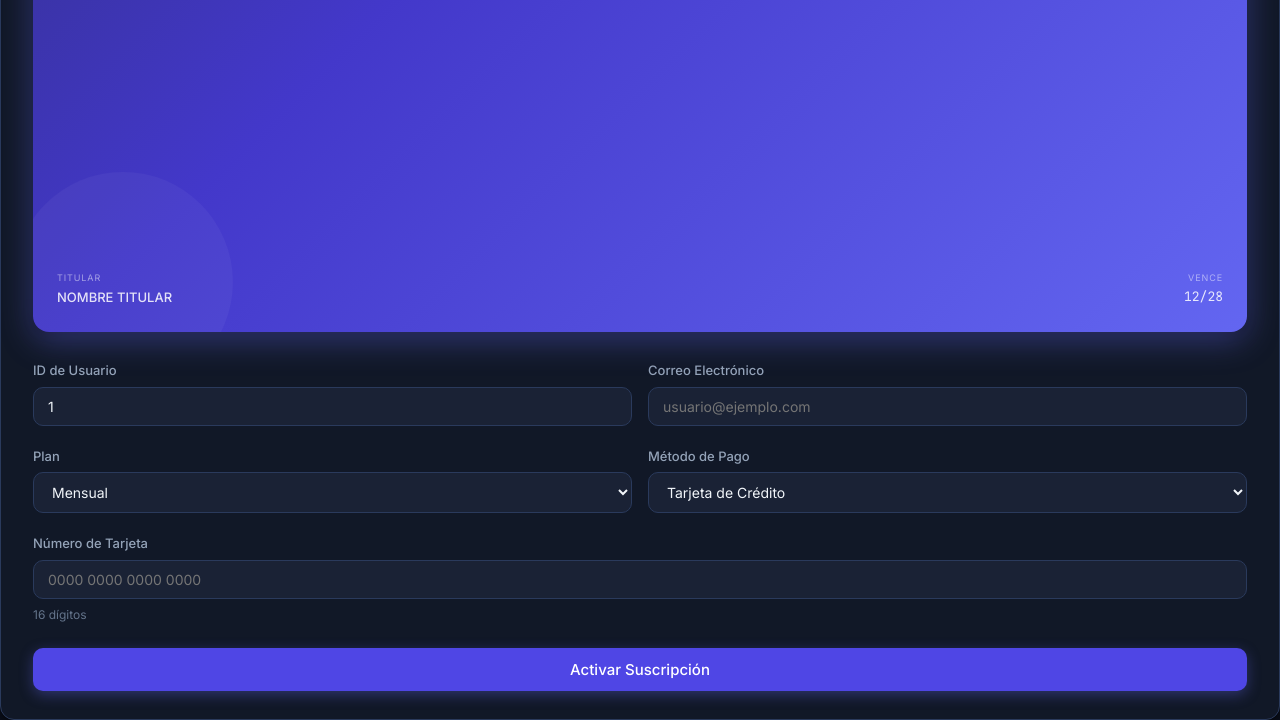
Scenario: SubscriptionForm › shows error for invalid email format
(page scrolled)
Type "notanemail" into the field labelled "Correo Electrónico" at (948, 406), box left=648, top=387, right=1247, bottom=426
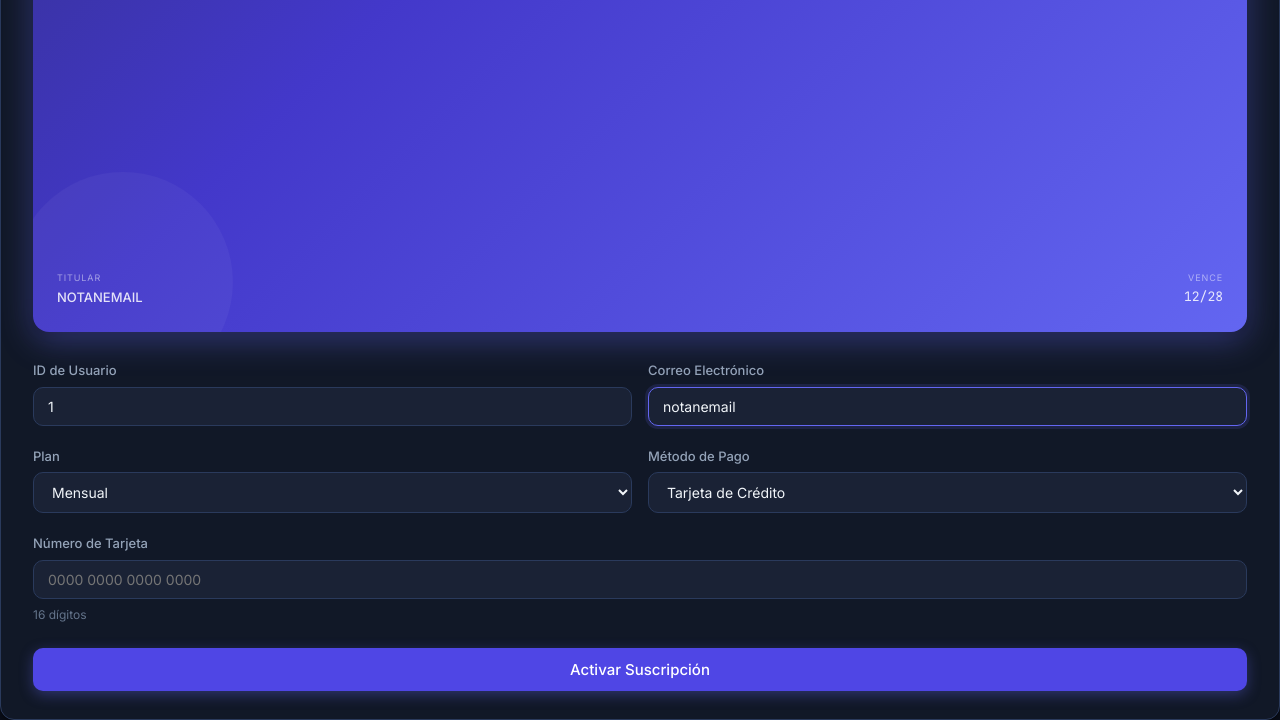
Press Tab
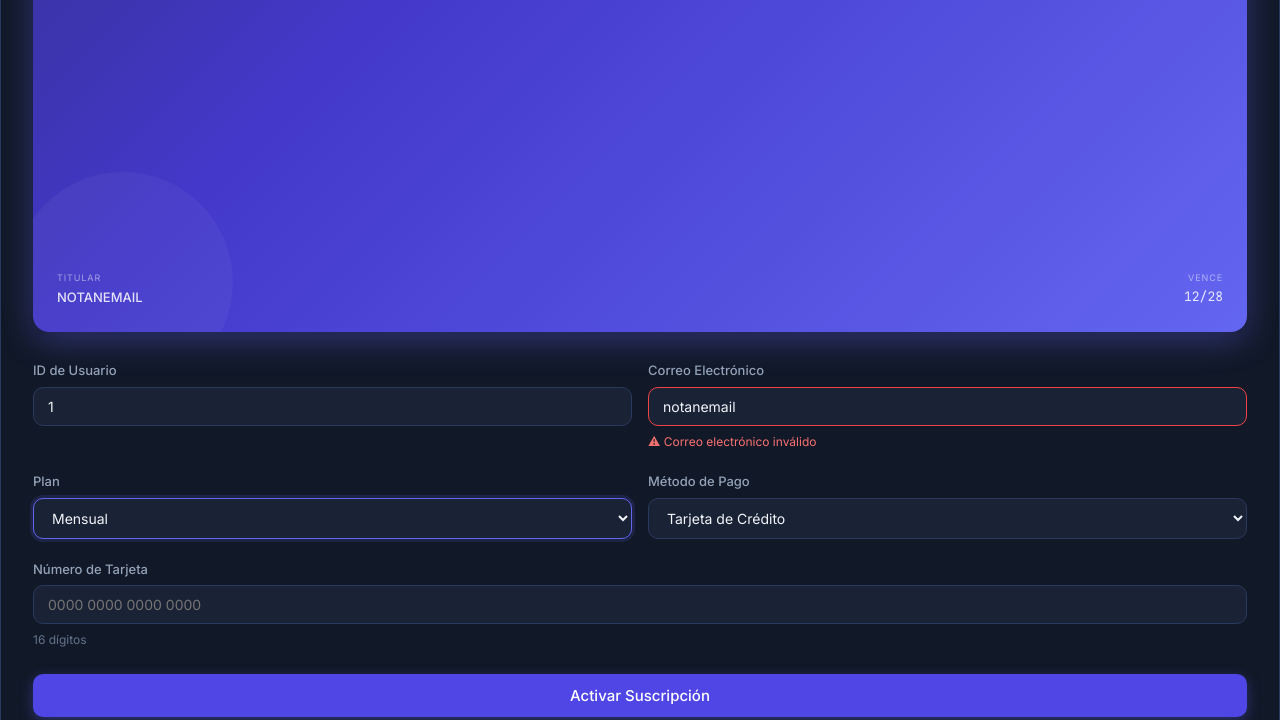
Expected: the text "⚠ Correo electrónico inválido" is shown, left=648, top=434, right=816, bottom=449
